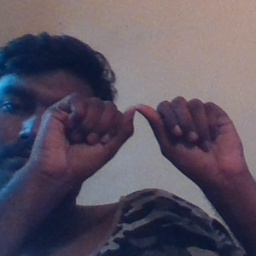A: (80, 88, 215, 186)
